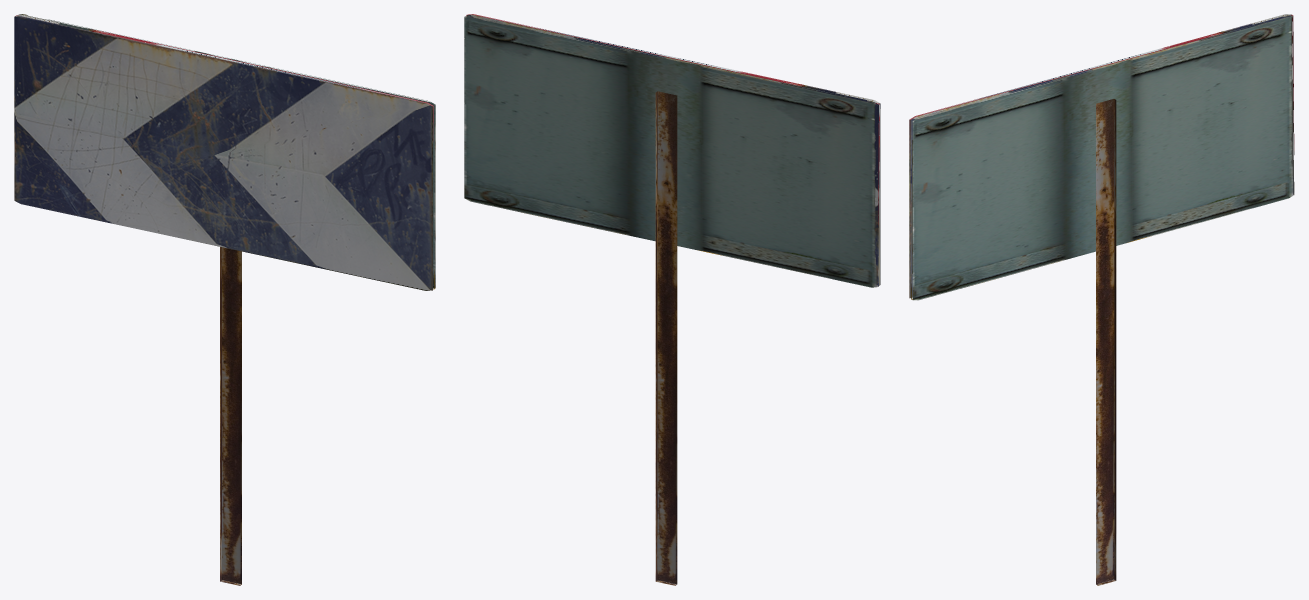
The model's file is big-left-arrow.fbx.
3 views of the same model, side by side, from view 1: azimuth 30°, elevation 25°; view 2: azimuth 210°, elevation 25°; view 3: azimuth 270°, elevation 25° (orthographic). The views are drawn at different scales.
Parts seen in each view (by area): view 1: pasted__sign_misc_1, pPlane1; view 2: pasted__sign_misc_1, pPlane1; view 3: pasted__sign_misc_1, pPlane1.
Boxes of the visible parts, x1,y1,x2,y2 form: pasted__sign_misc_1: [14, 14, 435, 290]; pPlane1: [220, 247, 241, 585]; pasted__sign_misc_1: [464, 14, 880, 287]; pPlane1: [655, 91, 677, 585]; pasted__sign_misc_1: [909, 14, 1294, 300]; pPlane1: [1096, 99, 1116, 585].
Size of the model in its own units: 2.77 by 6.18 by 4.21.
